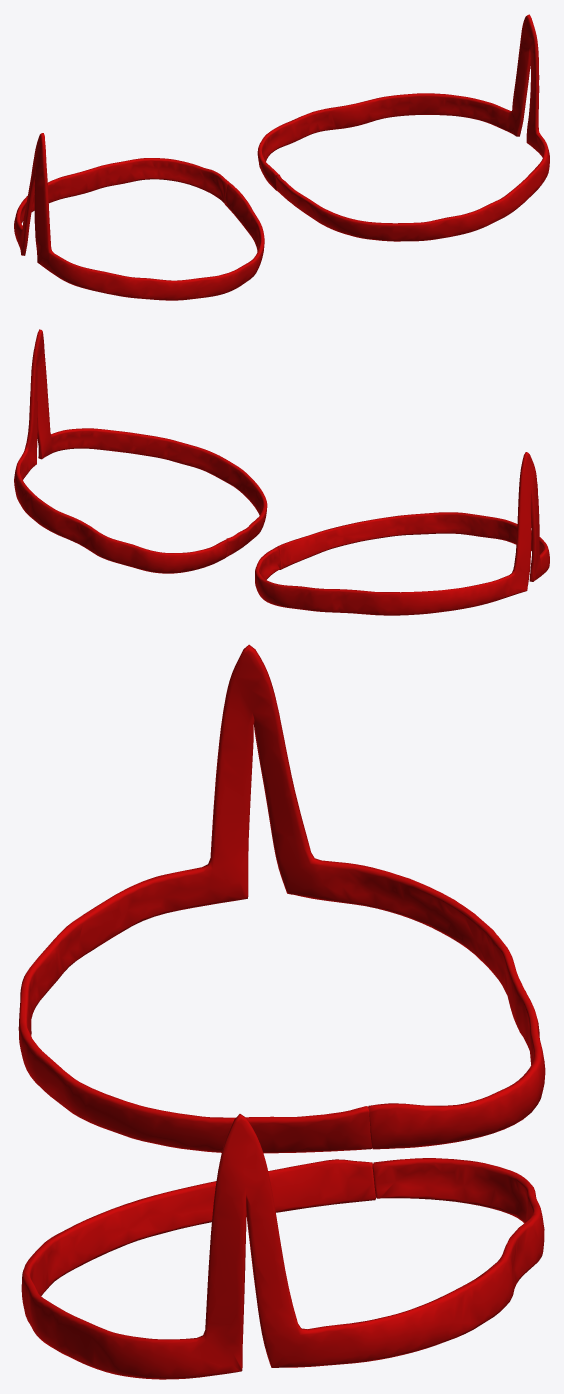
The model's file is stitching-bottom_side-slit.glb.
The picture shows the model from 3 angles, top to bottom: view 1: azimuth 30°, elevation 25°; view 2: azimuth 150°, elevation 25°; view 3: azimuth 270°, elevation 25°; orthographic projection. The views are drawn at different scales.
Visible parts, largest first — view 1: stitching-bottom_side-slit; view 2: stitching-bottom_side-slit; view 3: stitching-bottom_side-slit.
Boxes of the visible parts, x1,y1,x2,y2 form: stitching-bottom_side-slit: (14, 14, 549, 300); stitching-bottom_side-slit: (14, 329, 549, 615); stitching-bottom_side-slit: (18, 644, 545, 1379).
Bounding box in the file's own units: 2.15 × 0.6442 × 0.9775.
